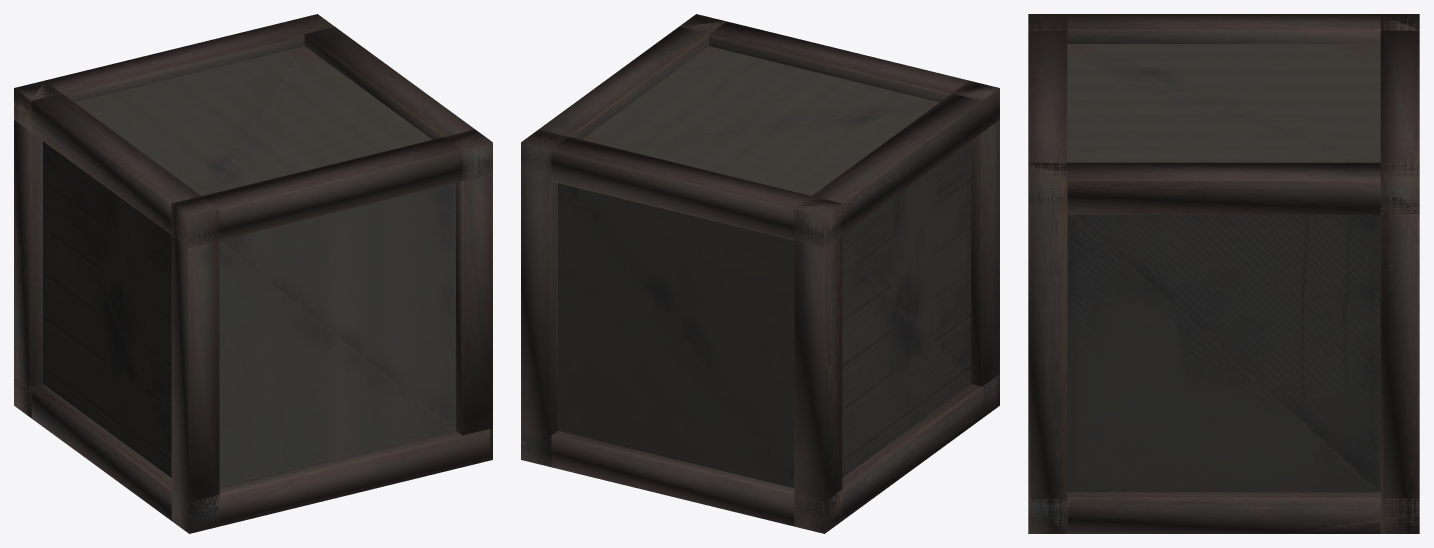
File: crate.glb
3 renders of one model, left to right at view 1: azimuth 30°, elevation 25°; view 2: azimuth 150°, elevation 25°; view 3: azimuth 270°, elevation 25°, orthographic. The views are drawn at different scales.
Parts seen in each view (by area): view 1: crate; view 2: crate; view 3: crate.
Part boxes in pixels (x1,y1,x2,y2): crate: (14,14,492,533); crate: (521,14,999,533); crate: (1028,14,1419,533).
Bounding box in the file's own units: 0.8 × 0.8 × 0.8.
1 material, 1 textured.
